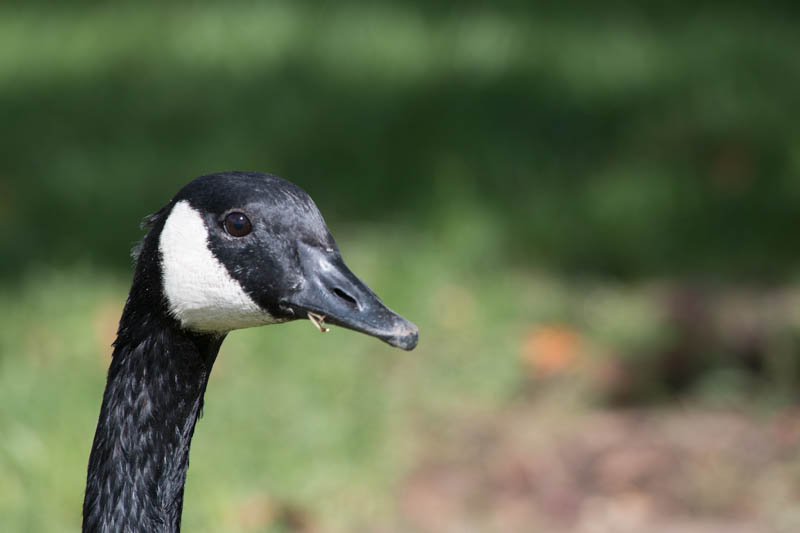goose-head: (133, 171, 418, 350)
